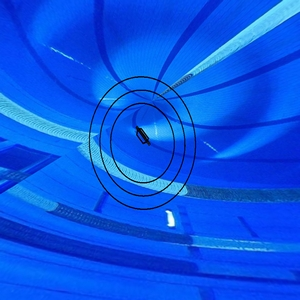circle: (84, 74, 206, 216)
submarine: (132, 121, 157, 153)
